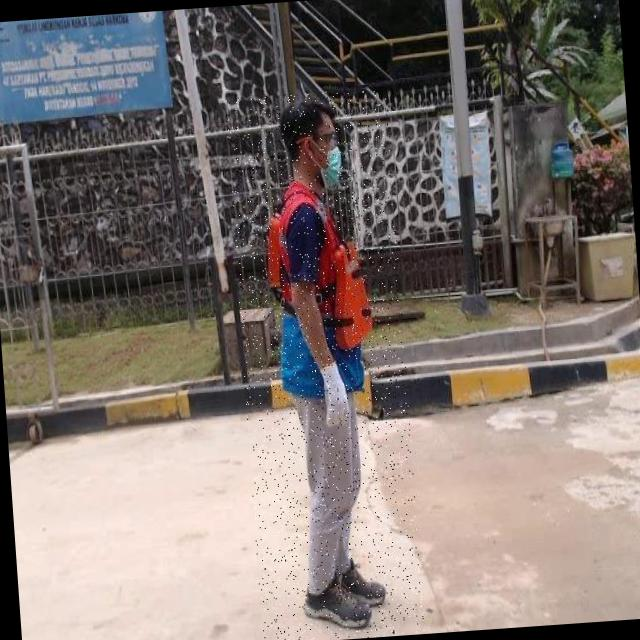safety_vest: (264, 176, 380, 401)
vehicle: (224, 87, 424, 640)
work_boots: (302, 572, 376, 634), (329, 557, 388, 608)
